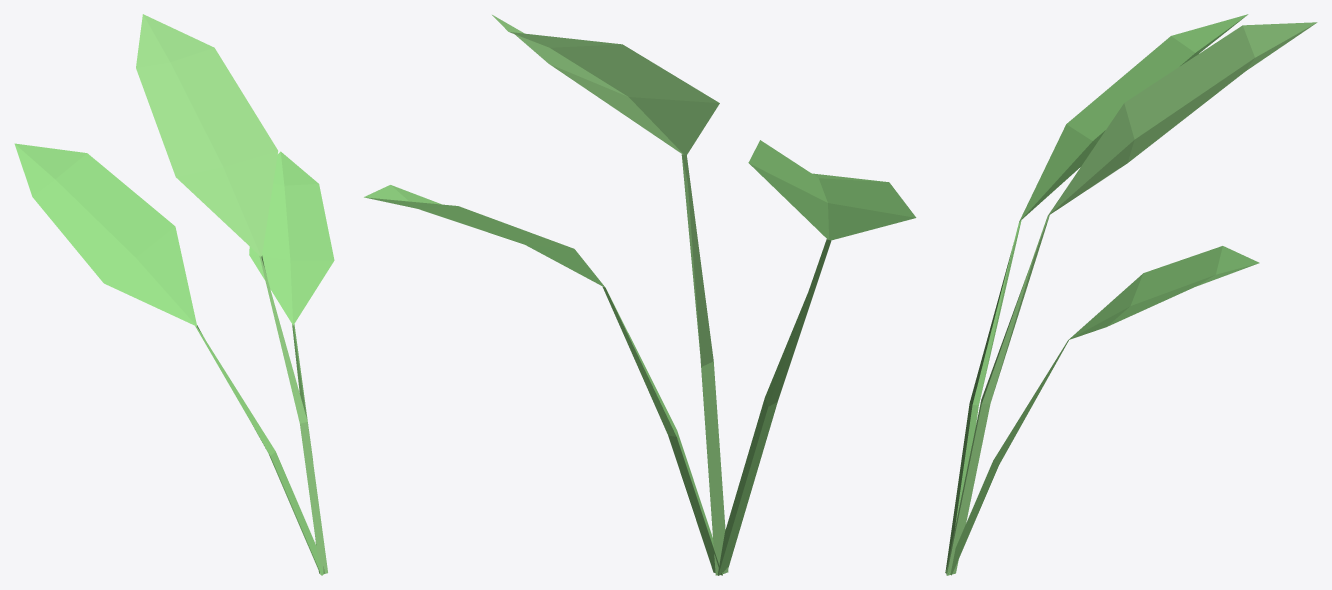
Rendered from Plant_j_OneS_03.fbx.
The picture shows the model from 3 angles, left to right: view 1: azimuth 30°, elevation 25°; view 2: azimuth 150°, elevation 25°; view 3: azimuth 270°, elevation 25°; orthographic projection. The views are drawn at different scales.
Parts seen in each view (by area): view 1: Plant_j_OneS_03; view 2: Plant_j_OneS_03; view 3: Plant_j_OneS_03.
Part boxes in pixels (box(x1,y1,x2,y2)): Plant_j_OneS_03: box(14, 14, 334, 575); Plant_j_OneS_03: box(364, 15, 916, 575); Plant_j_OneS_03: box(945, 14, 1317, 575).
Bounding box in the file's own units: 38.06 × 55.48 × 34.85.
